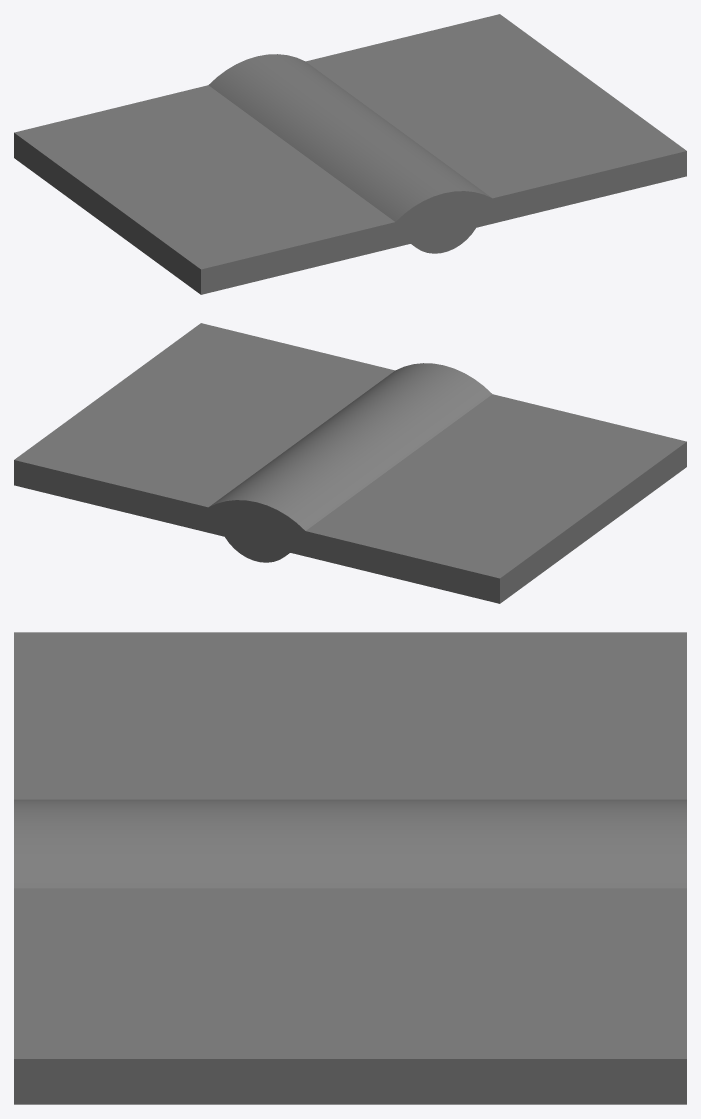
The picture shows the model from 3 angles, top to bottom: view 1: azimuth 30°, elevation 25°; view 2: azimuth 150°, elevation 25°; view 3: azimuth 270°, elevation 25°; orthographic projection. The views are drawn at different scales.
Parts seen in each view (by area): view 1: mesh_id4, mesh_id5; view 2: mesh_id4, mesh_id5; view 3: mesh_id4, mesh_id5.
Boxes of the visible parts, x1,y1,x2,y2 form: mesh_id4: (14, 14, 686, 294); mesh_id5: (208, 54, 492, 253); mesh_id4: (14, 323, 686, 603); mesh_id5: (208, 363, 492, 562); mesh_id4: (14, 632, 686, 1104); mesh_id5: (14, 799, 686, 888).
Bounding box in the file's own units: 0.512 × 0.0596 × 0.3413.
Materials: 2 (2 with a texture image).
